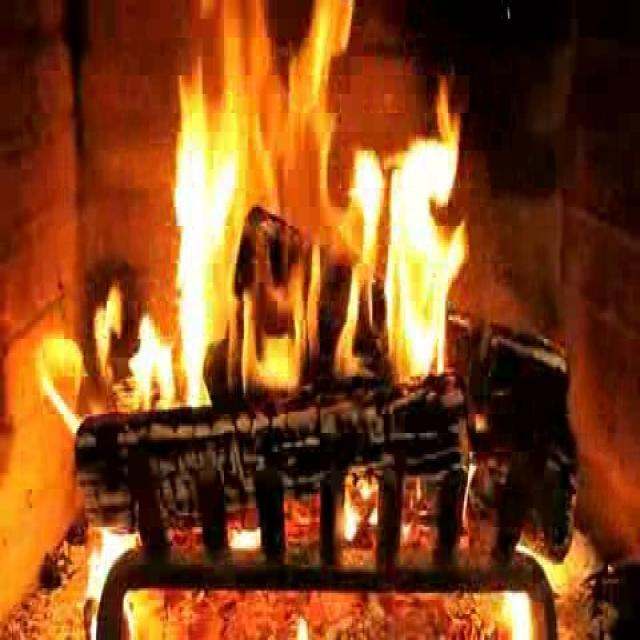Fire: (156, 26, 464, 438)
